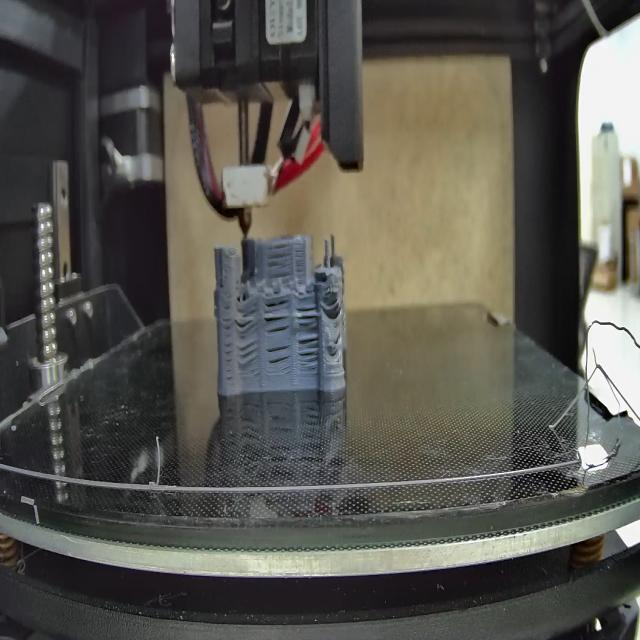cracks: (264, 297, 291, 335), (296, 336, 321, 374), (266, 343, 292, 378), (267, 244, 292, 280), (223, 303, 232, 384), (233, 303, 258, 332), (237, 339, 260, 367), (295, 303, 319, 327), (330, 297, 344, 316), (332, 330, 343, 350), (220, 275, 226, 290)
